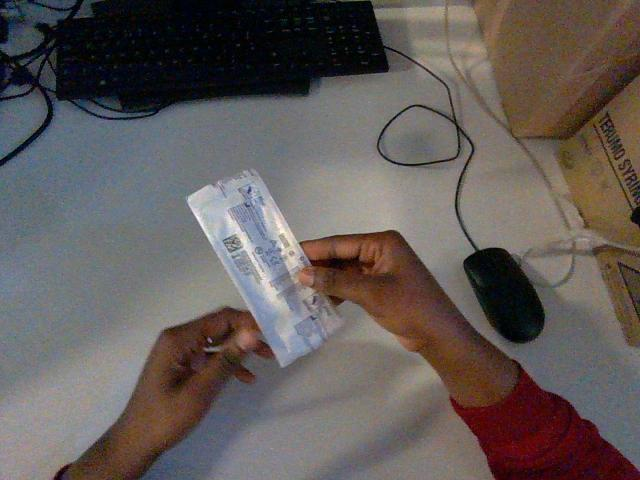syringe: (187, 170, 342, 366)
